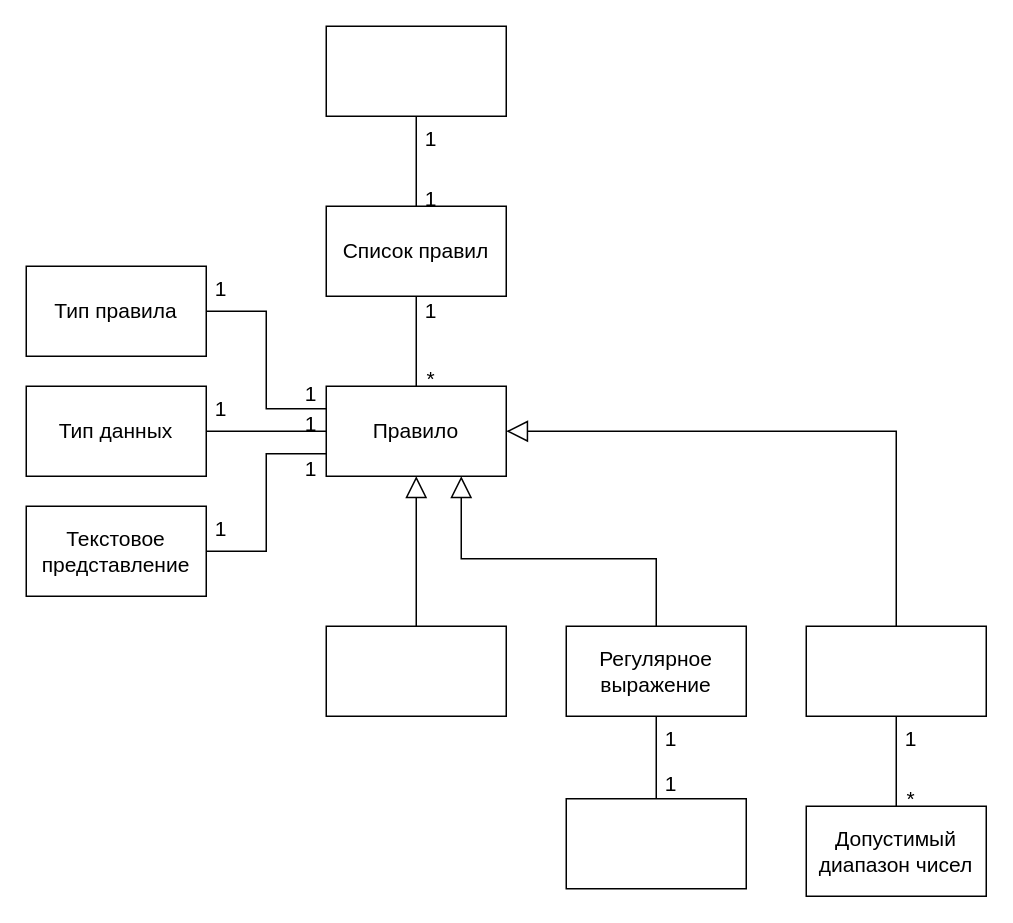
Some shapes in this 1013 by 923 pixel diagram are drawn without their labels. Each missing label, with the centre of its shape:
"Дерево регулярного выражения" belongs at pixel 655 843.
"Меню" belongs at pixel 415 70.
"Строка" belongs at pixel 415 670.
"Целые числа" belongs at pixel 895 670.
